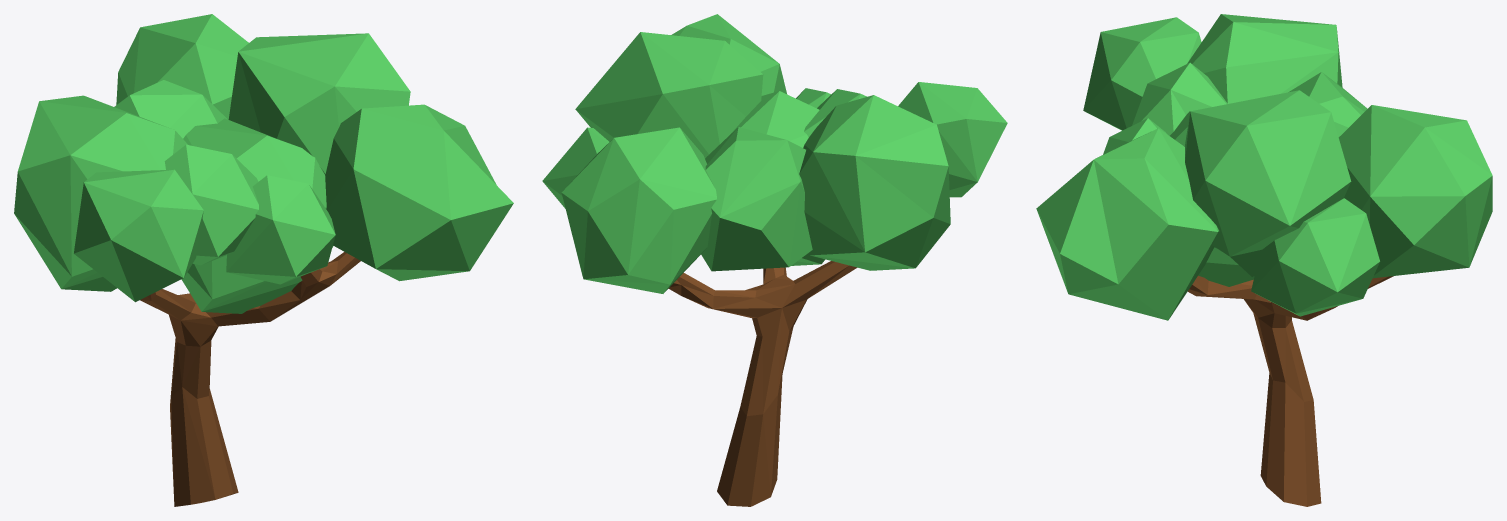
Rendered from LowpolyTrees02.fbx.
The picture shows the model from 3 angles, left to right: view 1: azimuth 30°, elevation 25°; view 2: azimuth 150°, elevation 25°; view 3: azimuth 270°, elevation 25°; orthographic projection. The views are drawn at different scales.
Parts seen in each view (by area): view 1: Tree02; view 2: Tree02; view 3: Tree02.
Part boxes in pixels (box(x1,y1,x2,y2)): Tree02: box(14, 14, 513, 506); Tree02: box(542, 14, 1007, 506); Tree02: box(1036, 14, 1492, 506).
Size of what is drawn, in the model's own units: 603 by 644 by 602.
